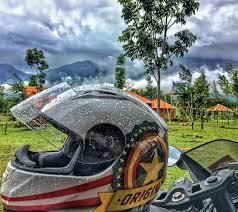helmet: (1, 82, 167, 211)
